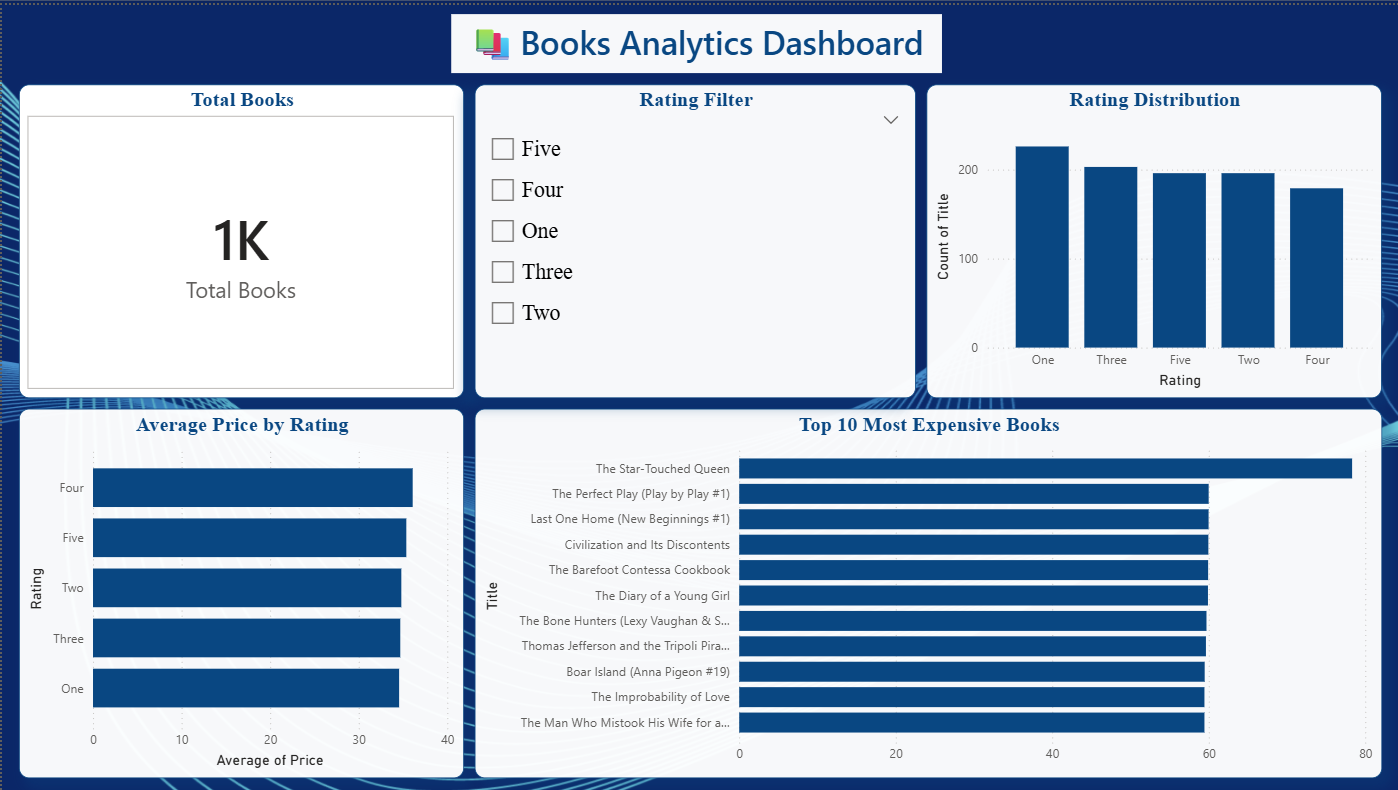

What the dashboard file says about the page in this screenshot:
{"tool":"powerbi","page":{"name":"Page 1","canvas":[1366,768],"ordinal":0},"visuals":[{"type":"cardVisual","title":"Total Books","fields":{"Data":["CountNonNull(books_dataset.Title)"]},"box":[16.5,77.6,434.9,306.4],"z":0},{"type":"columnChart","title":"Rating Distribution","fields":{"Category":["books_dataset.Rating"],"Y":["CountNonNull(books_dataset.Title)"]},"box":[902.8,77.6,445,306.4],"z":1000},{"type":"barChart","title":"Average Price by Rating","fields":{"Category":["books_dataset.Rating"],"Y":["Avg(books_dataset.Price)"]},"box":[16.5,394.2,434.9,361.1],"z":2000},{"type":"barChart","title":"Top 10 Most Expensive Books","fields":{"Category":["books_dataset.Title"],"Y":["Sum(books_dataset.Price)"]},"box":[461.6,394.2,886.3,361.1],"z":3000},{"type":"slicer","title":"Rating Filter","fields":{"Values":["books_dataset.Rating"]},"box":[461.6,77.6,431,306.4],"z":4000},{"type":"textbox","box":[438.7,8.9,479.4,57.2],"z":4001}]}

Visuals, with their boxes in screenshot pixels (x1, y1, x2, y2), scaled from the page's 1366x768 canvas onto the 1398x790 screenshot:
"Total Books" cardVisual: {"left": 17, "top": 80, "right": 462, "bottom": 395}
"Rating Distribution" columnChart: {"left": 924, "top": 80, "right": 1379, "bottom": 395}
"Average Price by Rating" barChart: {"left": 17, "top": 405, "right": 462, "bottom": 777}
"Top 10 Most Expensive Books" barChart: {"left": 472, "top": 405, "right": 1379, "bottom": 777}
"Rating Filter" slicer: {"left": 472, "top": 80, "right": 914, "bottom": 395}
textbox: {"left": 449, "top": 9, "right": 940, "bottom": 68}
